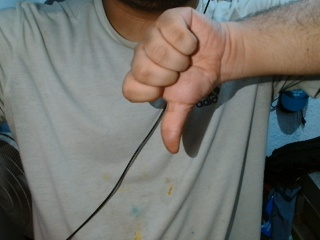Atras: (115, 5, 234, 157)
